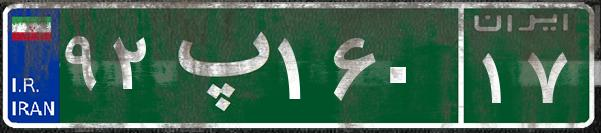0: (385, 28, 445, 110)
1: (273, 28, 330, 110), (475, 38, 525, 113)
2: (110, 28, 158, 105)
6: (330, 28, 385, 110)
7: (525, 38, 570, 115)
9: (57, 26, 110, 107)
پ: (158, 15, 273, 115)
